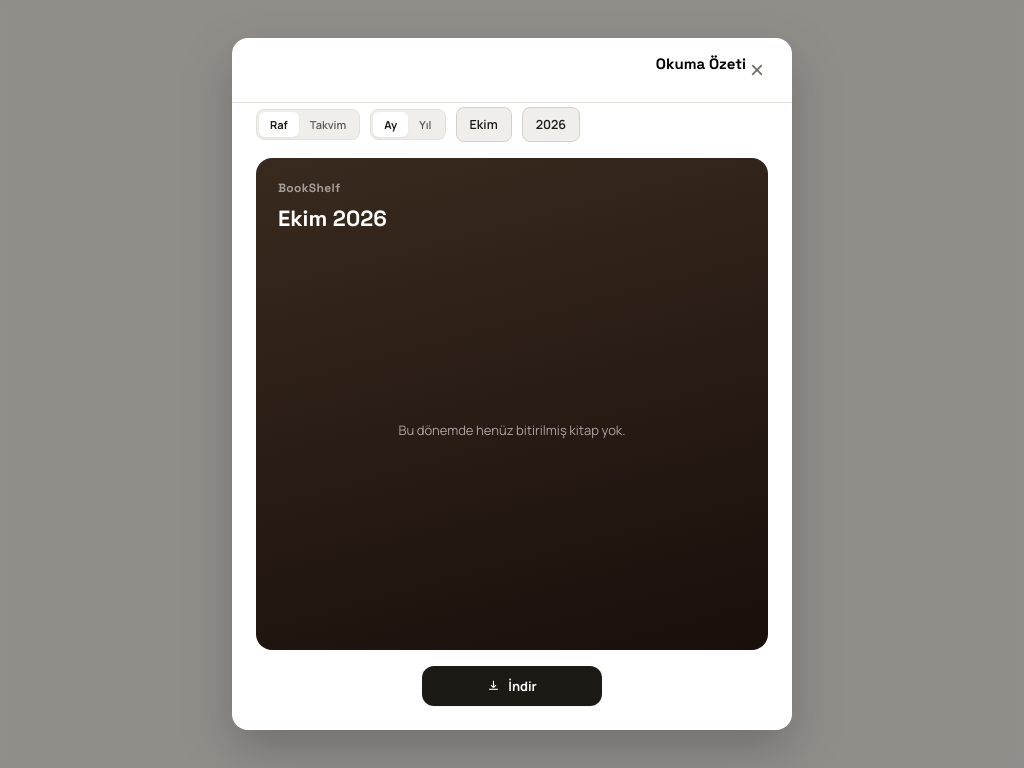
Test: ReadingRecap calendar style › shows the empty message and disables sharing for a month with no reading days
Click the button "Takvim" at [328, 125], box top-left (299, 112), bottom-right (357, 137)
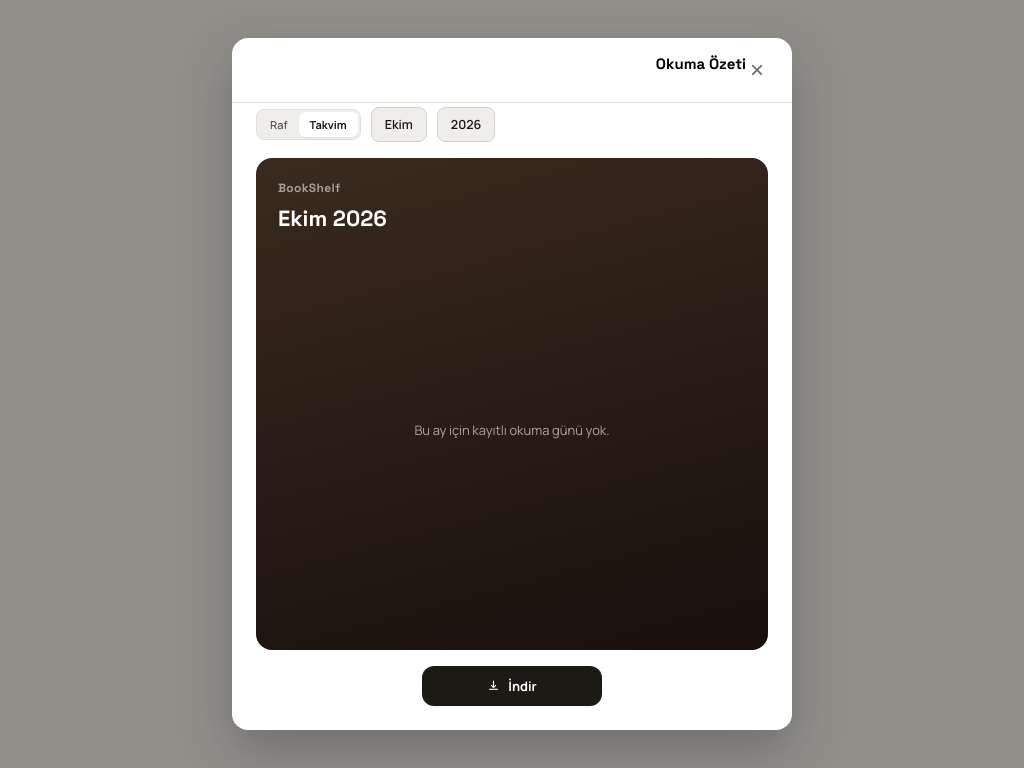
Expected: the button "İndir" is disabled, top-left (422, 666), bottom-right (602, 706)
Expected: the text "Bu ay için kayıtlı okuma günü yok." is shown, top-left (414, 421), bottom-right (610, 439)
